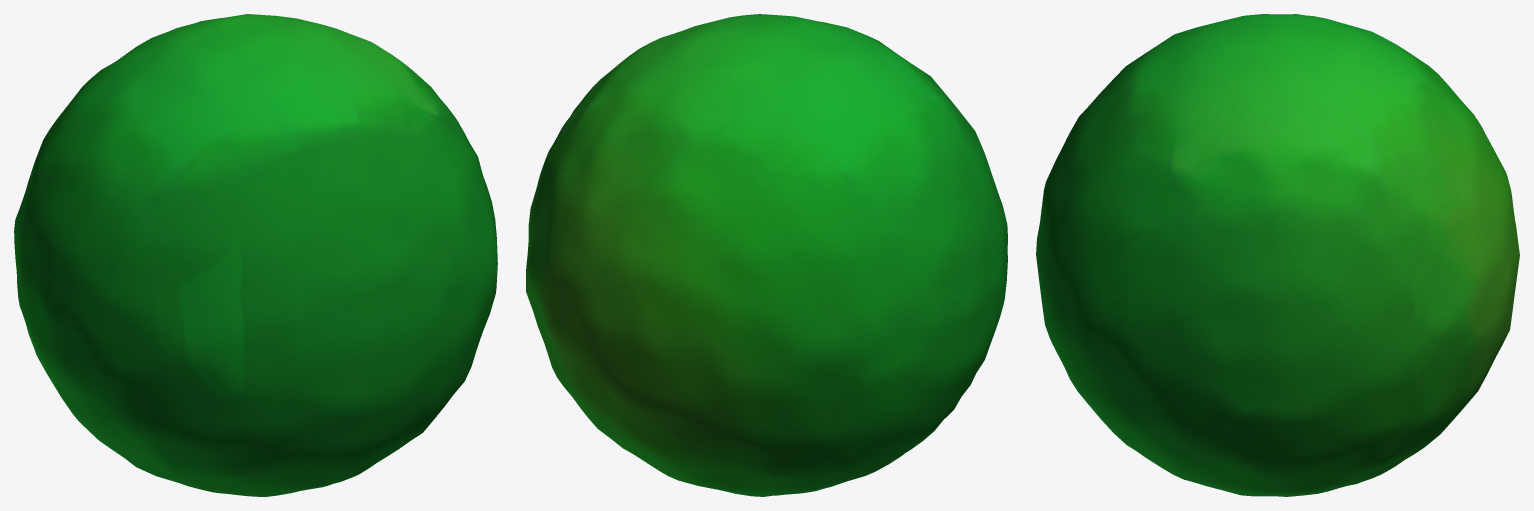
Rendered from stone_of_vitality_v2.glb.
3 views of the same model, side by side, from view 1: azimuth 30°, elevation 25°; view 2: azimuth 150°, elevation 25°; view 3: azimuth 270°, elevation 25° (orthographic).
Parts seen in each view (by area): view 1: Mesh_0; view 2: Mesh_0; view 3: Mesh_0.
Boxes of the visible parts, x1,y1,x2,y2 form: Mesh_0: [14, 14, 497, 496]; Mesh_0: [526, 14, 1007, 496]; Mesh_0: [1036, 14, 1519, 496].
Size of the model in its own units: 1.9 by 1.91 by 1.9.
Materials: 1 (1 with a texture image).
